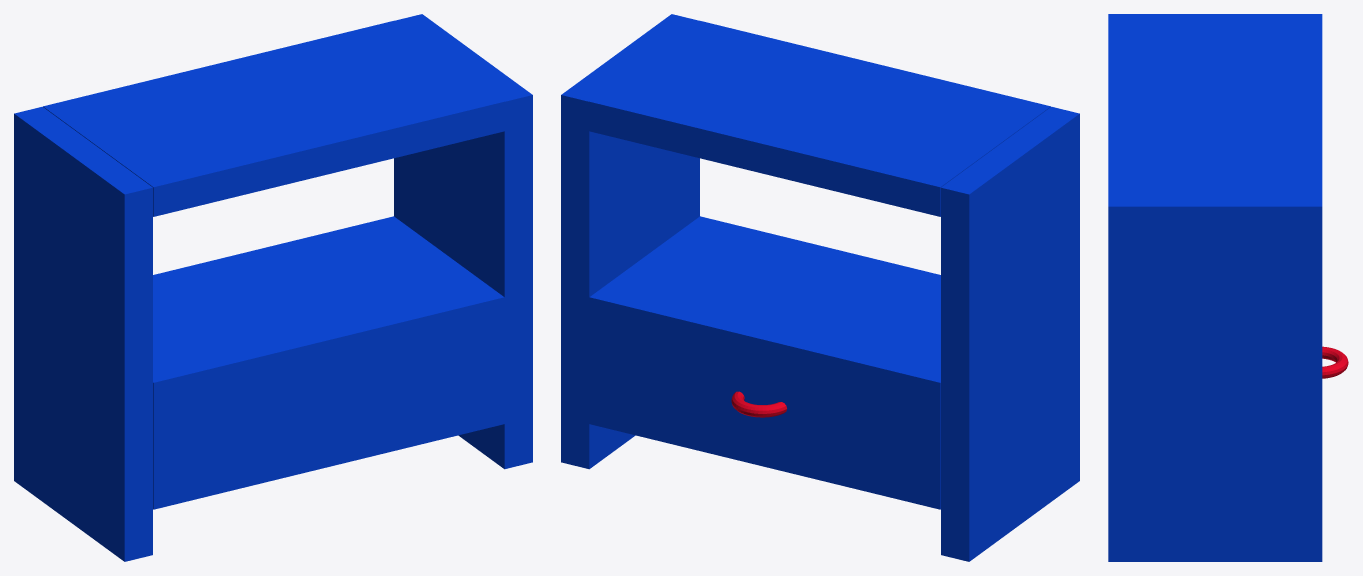
Rendered from TV-Cabinet.fbx.
The picture shows the model from 3 angles, left to right: view 1: azimuth 30°, elevation 25°; view 2: azimuth 150°, elevation 25°; view 3: azimuth 270°, elevation 25°; orthographic projection. The views are drawn at different scales.
Visible parts, largest first — view 1: Teen-TV-Cabinet; view 2: Teen-TV-Cabinet; view 3: Teen-TV-Cabinet.
Boxes of the visible parts, x1,y1,x2,y2 form: Teen-TV-Cabinet: (14, 14, 532, 561); Teen-TV-Cabinet: (561, 14, 1079, 561); Teen-TV-Cabinet: (1108, 14, 1348, 561).
Bounding box in the file's own units: 445 × 383 × 235.
